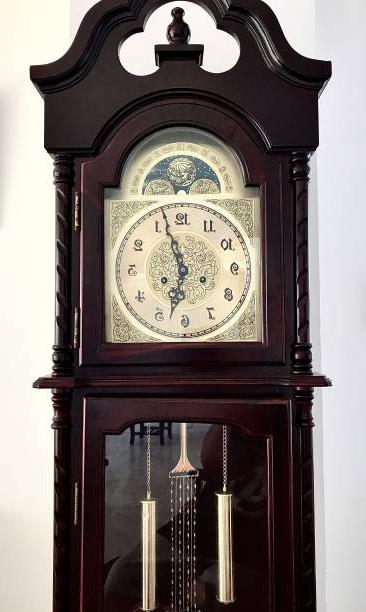clock: (109, 199, 254, 343)
